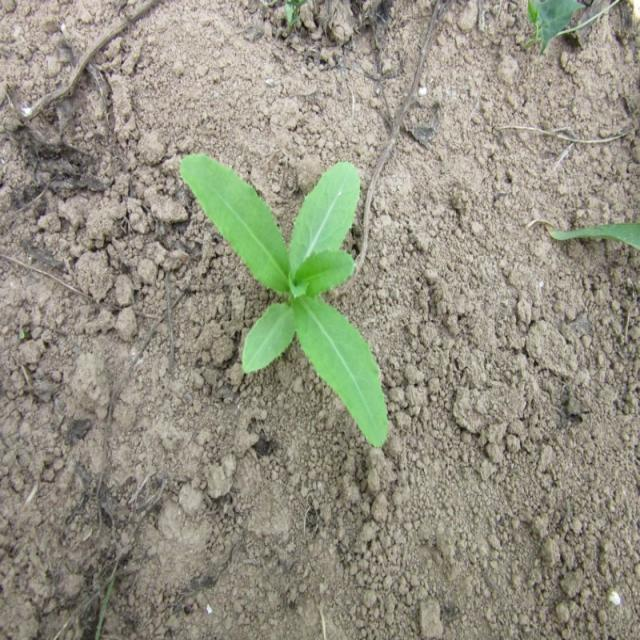field_thistle: (175, 157, 436, 485)
